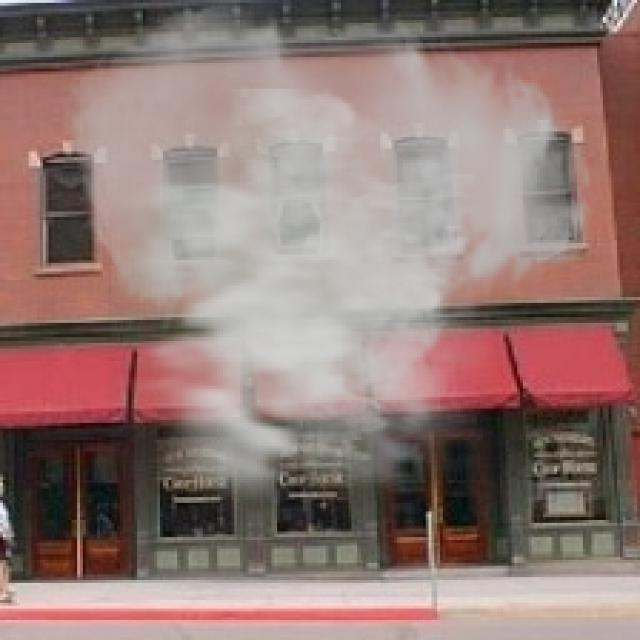smoke: (57, 0, 597, 526)
